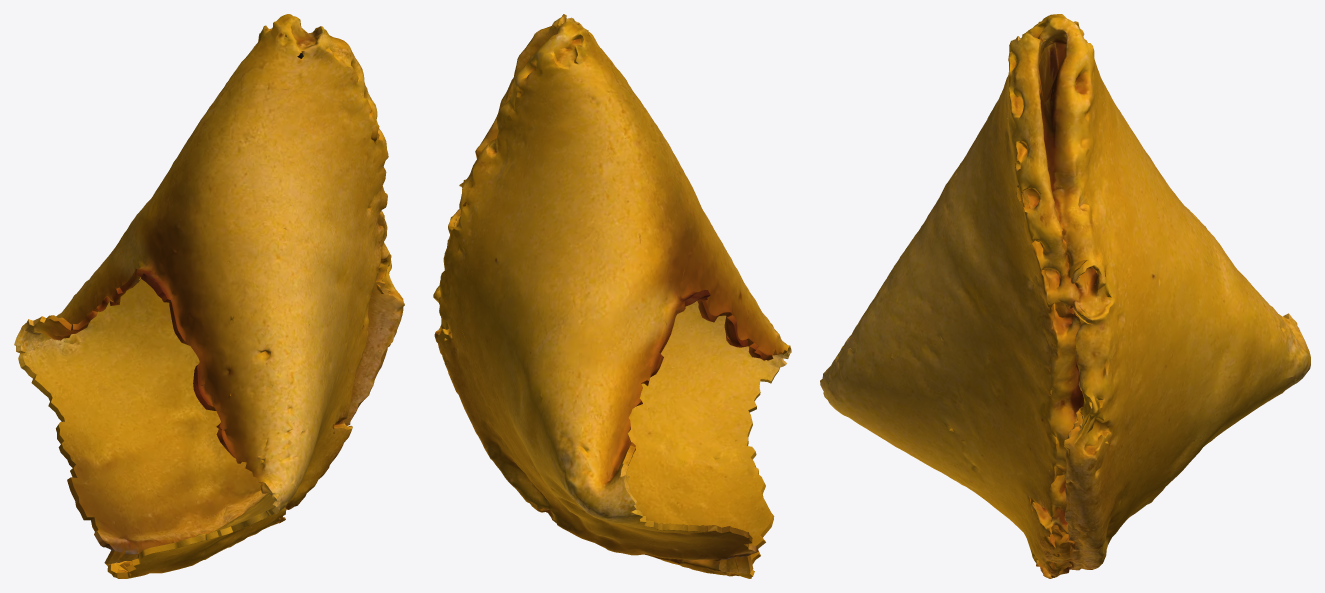
3 views of the same model, side by side, from view 1: azimuth 30°, elevation 25°; view 2: azimuth 150°, elevation 25°; view 3: azimuth 270°, elevation 25° (orthographic). The views are drawn at different scales.
Parts seen in each view (by area): view 1: 1.005; view 2: 1.005; view 3: 1.005.
Part boxes in pixels (box(x1,y1,x2,y2)): 1.005: box(14, 14, 404, 578); 1.005: box(433, 14, 791, 578); 1.005: box(820, 14, 1310, 578).
Size of the model in its own units: 38 by 59.39 by 44.73.
Materials: 1 (1 with a texture image).
